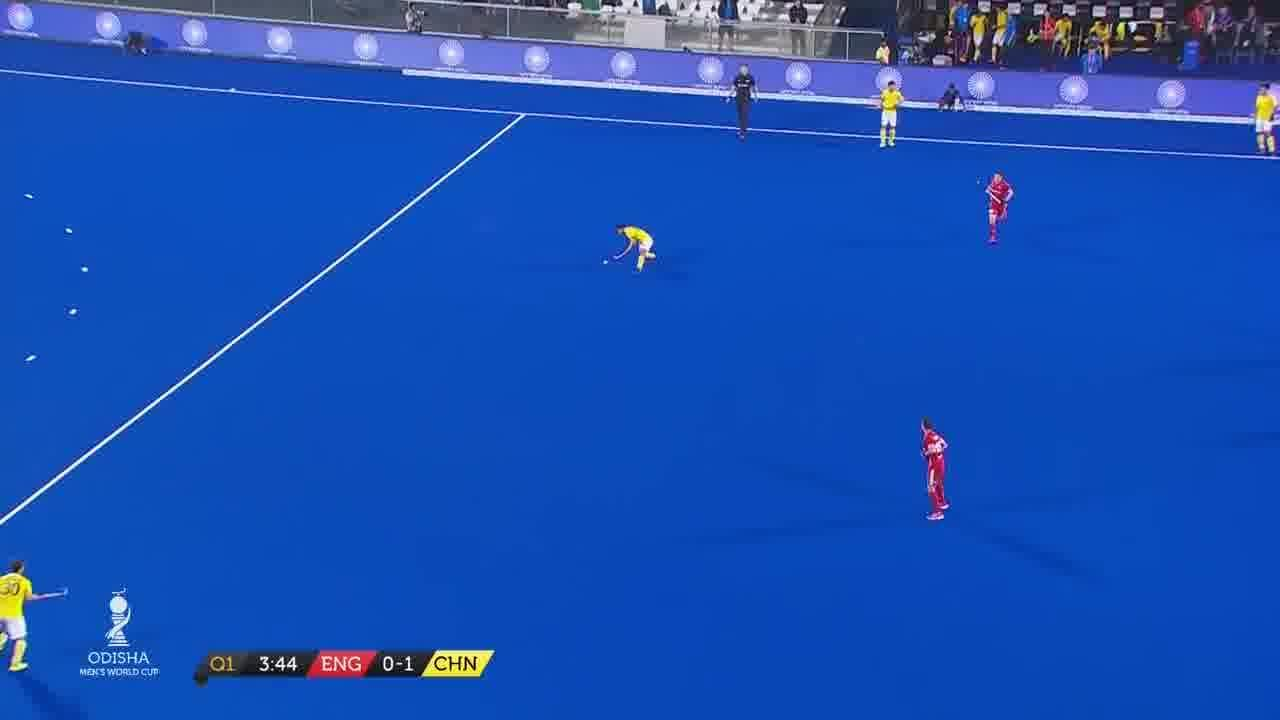ball: (594, 254, 613, 268)
